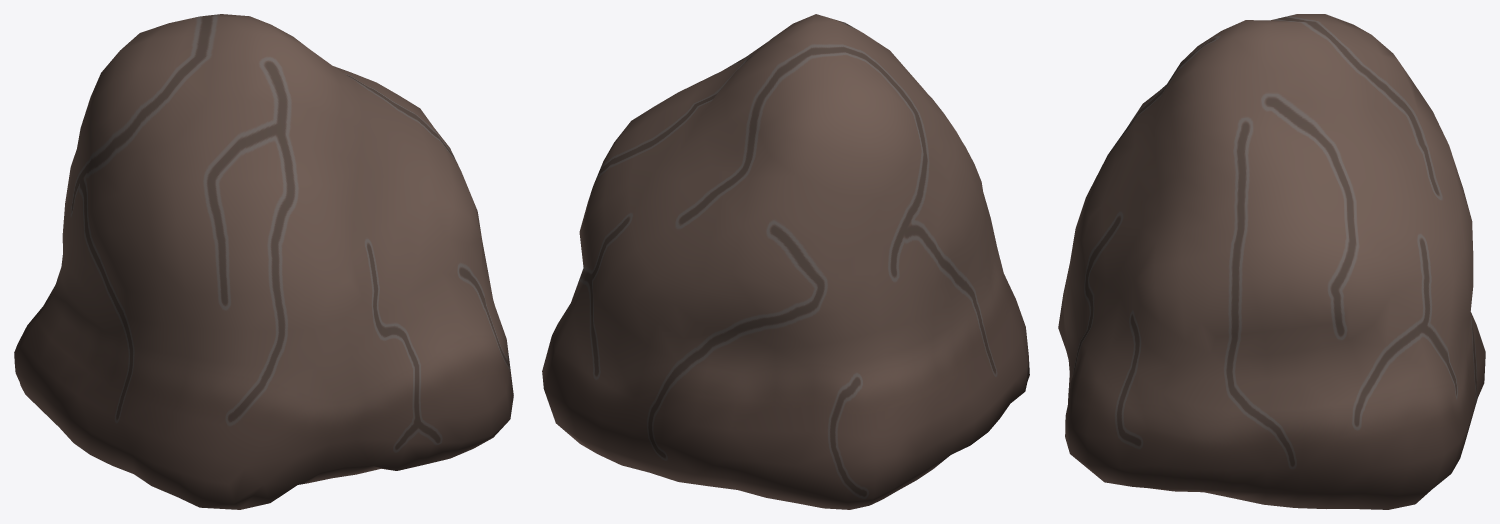
File: SM_BreakableRock.fbx
The picture shows the model from 3 angles, left to right: view 1: azimuth 30°, elevation 25°; view 2: azimuth 150°, elevation 25°; view 3: azimuth 270°, elevation 25°; orthographic projection. The views are drawn at different scales.
Parts seen in each view (by area): view 1: BreakableRock_low; view 2: BreakableRock_low; view 3: BreakableRock_low.
Boxes of the visible parts, x1,y1,x2,y2 form: BreakableRock_low: (14,14,513,509); BreakableRock_low: (542,14,1029,509); BreakableRock_low: (1058,14,1485,509).
Size of the model in its own units: 97.62 by 101 by 95.57.
1 material, 1 textured.
